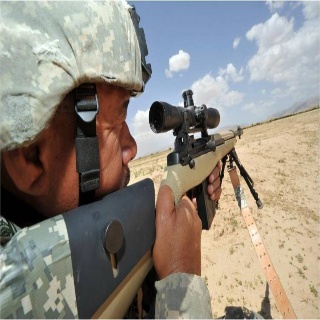rifle: (1, 86, 267, 320)
